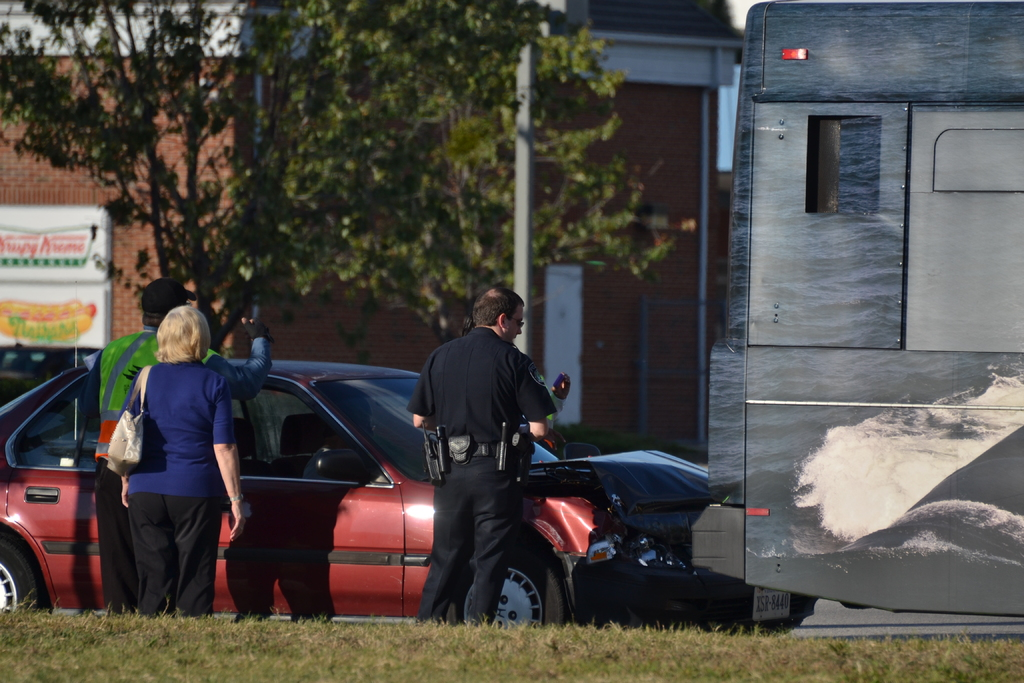Car: (1, 320, 820, 628)
